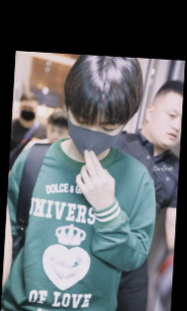with_mask: (65, 111, 123, 158), (19, 104, 37, 121)
without_mask: (152, 104, 181, 147), (46, 124, 69, 145)
